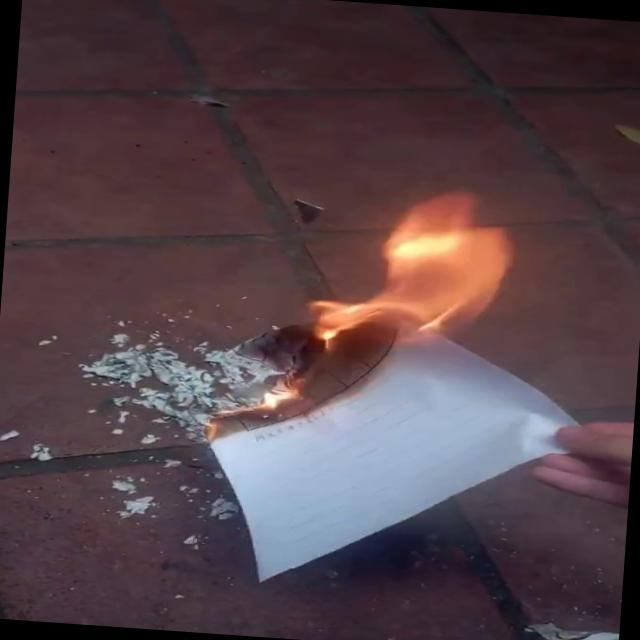Fire_Dangerous: (308, 181, 512, 350), (178, 382, 321, 432)
